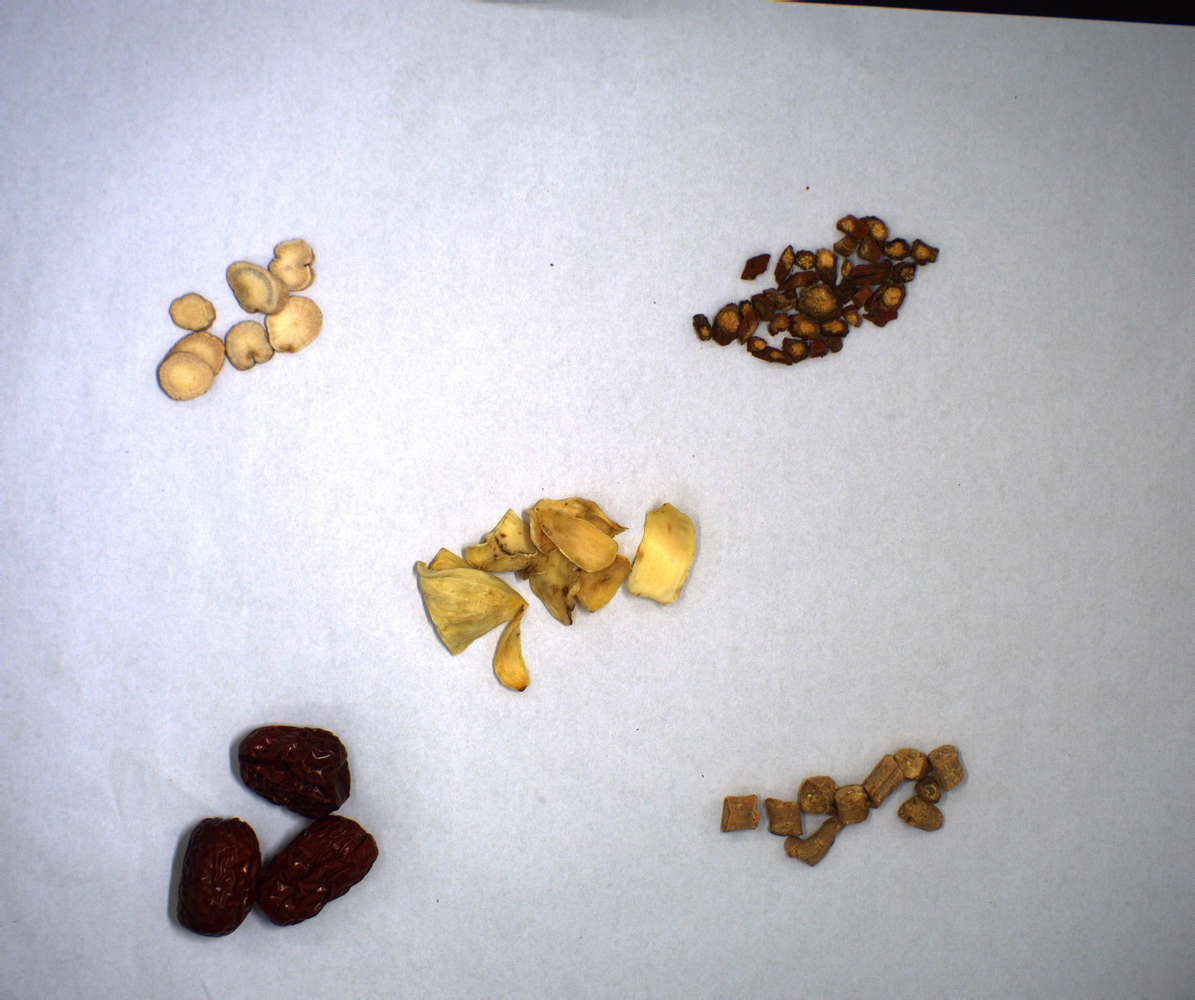baihe: (409, 488, 707, 703)
baishao: (152, 231, 333, 401)
danshen: (680, 207, 949, 376)
dazao: (150, 711, 391, 946)
niuxi: (709, 741, 971, 869)
